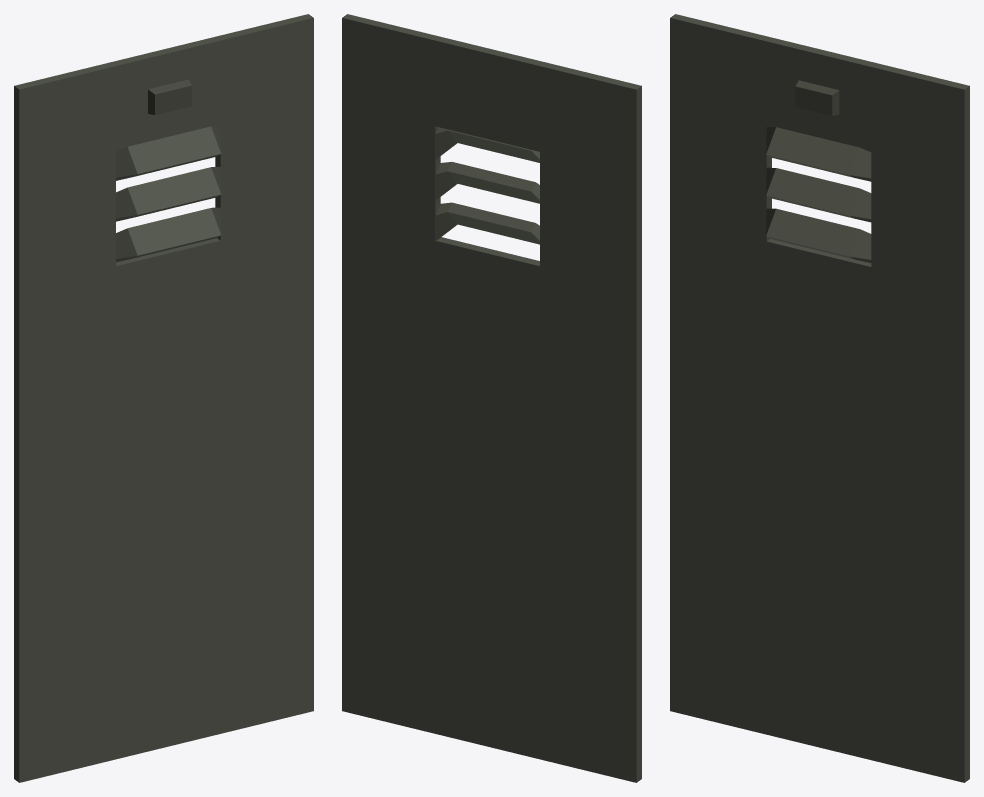
Rendered from SM_Prop_Lockers_Door_03.glb.
The picture shows the model from 3 angles, left to right: view 1: azimuth 30°, elevation 25°; view 2: azimuth 150°, elevation 25°; view 3: azimuth 330°, elevation 25°; orthographic projection.
Visible parts, largest first — view 1: SM_Prop_Lockers_Door_03; view 2: SM_Prop_Lockers_Door_03; view 3: SM_Prop_Lockers_Door_03.
Part boxes in pixels (left/top/right/bottom): SM_Prop_Lockers_Door_03: left=14, top=14, right=313, bottom=782; SM_Prop_Lockers_Door_03: left=342, top=14, right=641, bottom=782; SM_Prop_Lockers_Door_03: left=670, top=14, right=969, bottom=782.
Size of the model in its own units: 0.6028 by 1.36 by 0.0583.
Materials: 1 (1 with a texture image).
